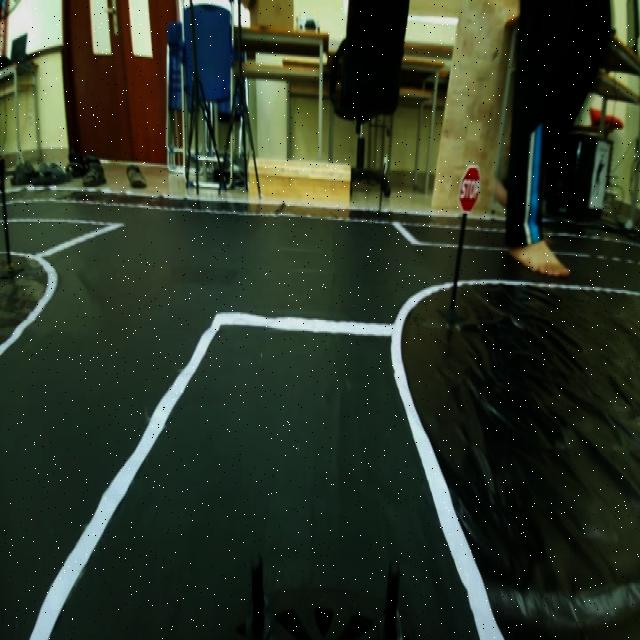stop: (455, 161, 484, 213)
